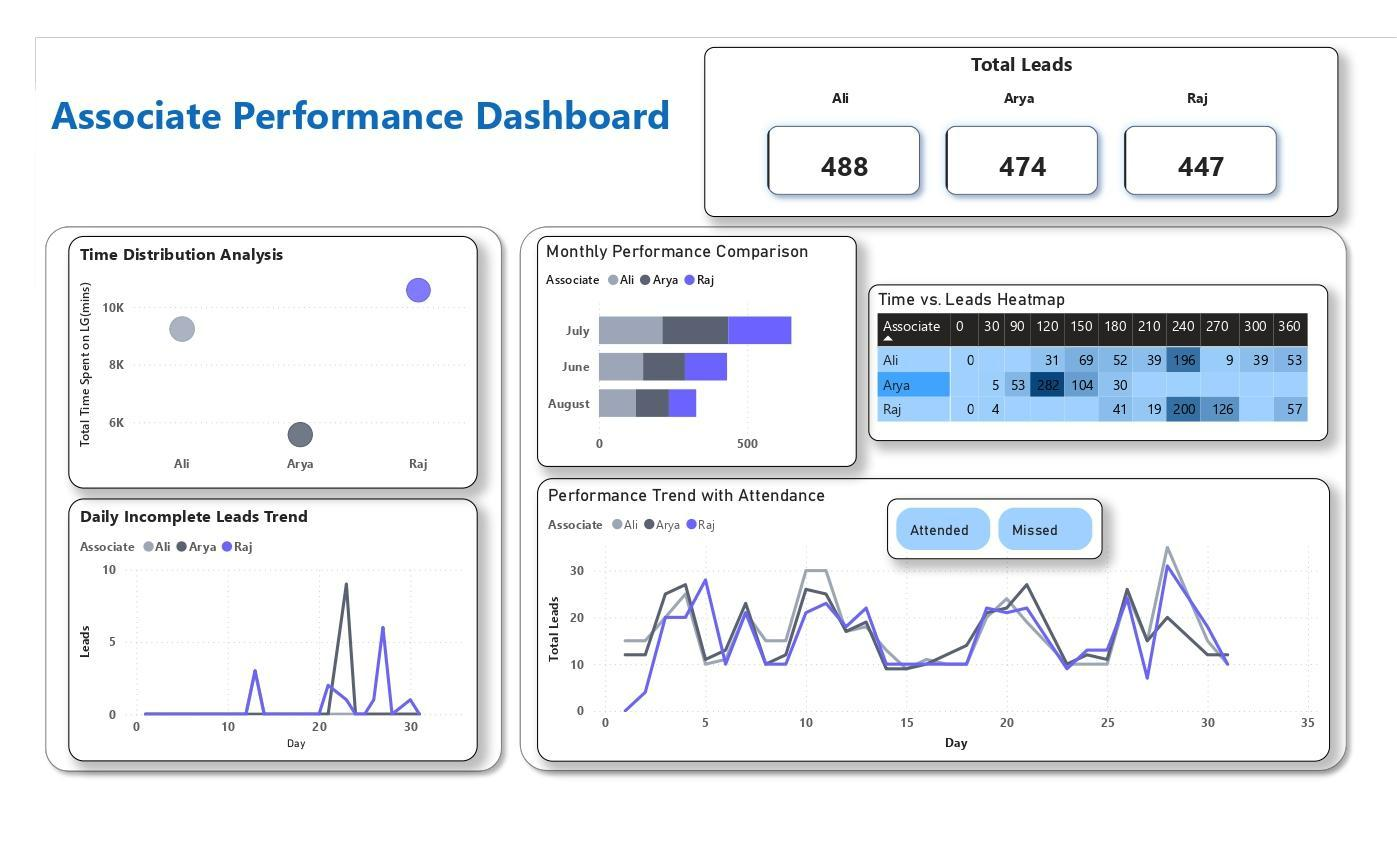

What the dashboard file says about the page in this screenshot:
{"tool":"powerbi","page":{"name":"Page 1","canvas":[1280,720],"ordinal":0},"visuals":[{"type":"shape","box":[0,173.7,460.9,546.5],"z":0},{"type":"shape","box":[460,174,820,546],"z":1000},{"type":"shape","box":[647.9,8.4,615.3,165.3],"z":2000},{"type":"lineChart","title":"Performance Trend with Attendance","fields":{"Category":["All_performance_data.Date.Variation.Date Hierarchy.Year","All_performance_data.Date.Variation.Date Hierarchy.Quarter","All_performance_data.Date.Variation.Date Hierarchy.Month","All_performance_data.Date.Variation.Date Hierarchy.Day"],"Y":["All_performance_data.Leads"],"Series":["All_performance_data.Associate"]},"box":[486.2,427.1,768.5,275.1],"z":3000},{"type":"pivotTable","title":"Time vs. Leads Heatmap","fields":{"Rows":["All_performance_data.Associate"],"Columns":["All_performance_data.Time spent on LG (mins) (bins)"],"Values":["All_performance_data.Leads"]},"box":[808.3,240.1,446.4,152],"z":4000},{"type":"lineChart","title":"Daily Incomplete Leads Trend","fields":{"Category":["All_performance_data.Date.Variation.Date Hierarchy.Year","All_performance_data.Date.Variation.Date Hierarchy.Quarter","All_performance_data.Date.Variation.Date Hierarchy.Month","All_performance_data.Date.Variation.Date Hierarchy.Day"],"Y":["All_performance_data.No. of Incomplete Leads"],"Series":["All_performance_data.Associate"]},"box":[31.4,447.6,396.9,254.6],"z":5000},{"type":"barChart","title":"Monthly Performance  Comparison","fields":{"Y":["All_performance_data.Leads"],"Series":["All_performance_data.Associate"],"Category":["All_performance_data.Month Name"]},"box":[486.2,193,310.1,224.4],"z":6000},{"type":"scatterChart","title":"Time Distribution Analysis","fields":{"X":["All_performance_data.Associate"],"Y":["All_performance_data.Time spent on LG (mins)"],"Size":["All_performance_data.Leads"]},"box":[31.4,193,396.9,244.9],"z":7000},{"type":"advancedSlicerVisual","fields":{"Values":["All_performance_data.Daily Team Review"]},"box":[825.2,447.6,208.7,59.1],"z":8000},{"type":"cardVisual","title":"Total Leads","fields":{"Rows":["All_performance_data.Associate"],"Data":["All_performance_data.Leads"]},"box":[672,12.1,567,156.8],"z":9000},{"type":"textbox","box":[0,43.4,631,66.4],"z":10000}]}

Visuals, with their boxes on the page's 1280x720 design canvas (x1, y1, x2, y2). These are canvas units, not pixel positions in the 1397x863 screenshot, which may show the page scaled, cropped or inside an application window:
shape: [0,174,461,720]
shape: [460,174,1280,720]
shape: [648,8,1263,174]
"Performance Trend with Attendance" lineChart: [486,427,1255,702]
"Time vs. Leads Heatmap" pivotTable: [808,240,1255,392]
"Daily Incomplete Leads Trend" lineChart: [31,448,428,702]
"Monthly Performance  Comparison" barChart: [486,193,796,417]
"Time Distribution Analysis" scatterChart: [31,193,428,438]
advancedSlicerVisual - All_performance_data.Daily Team Review: [825,448,1034,507]
"Total Leads" cardVisual: [672,12,1239,169]
textbox: [0,43,631,110]
